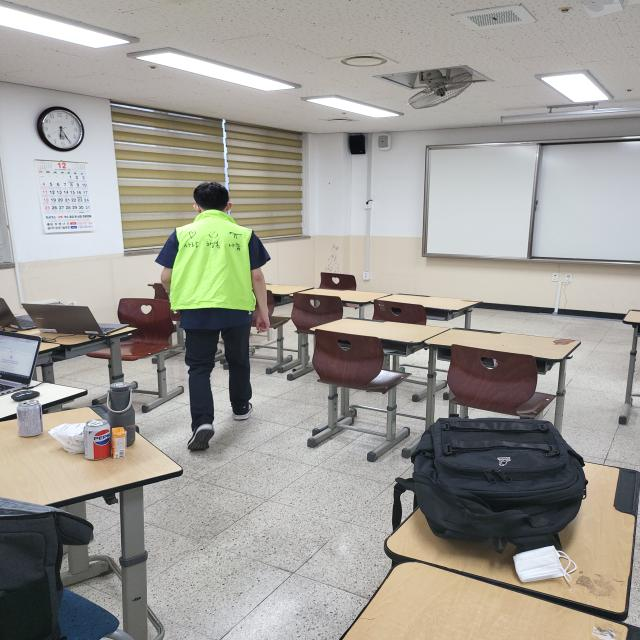weston_spy: (161, 204, 263, 316)
